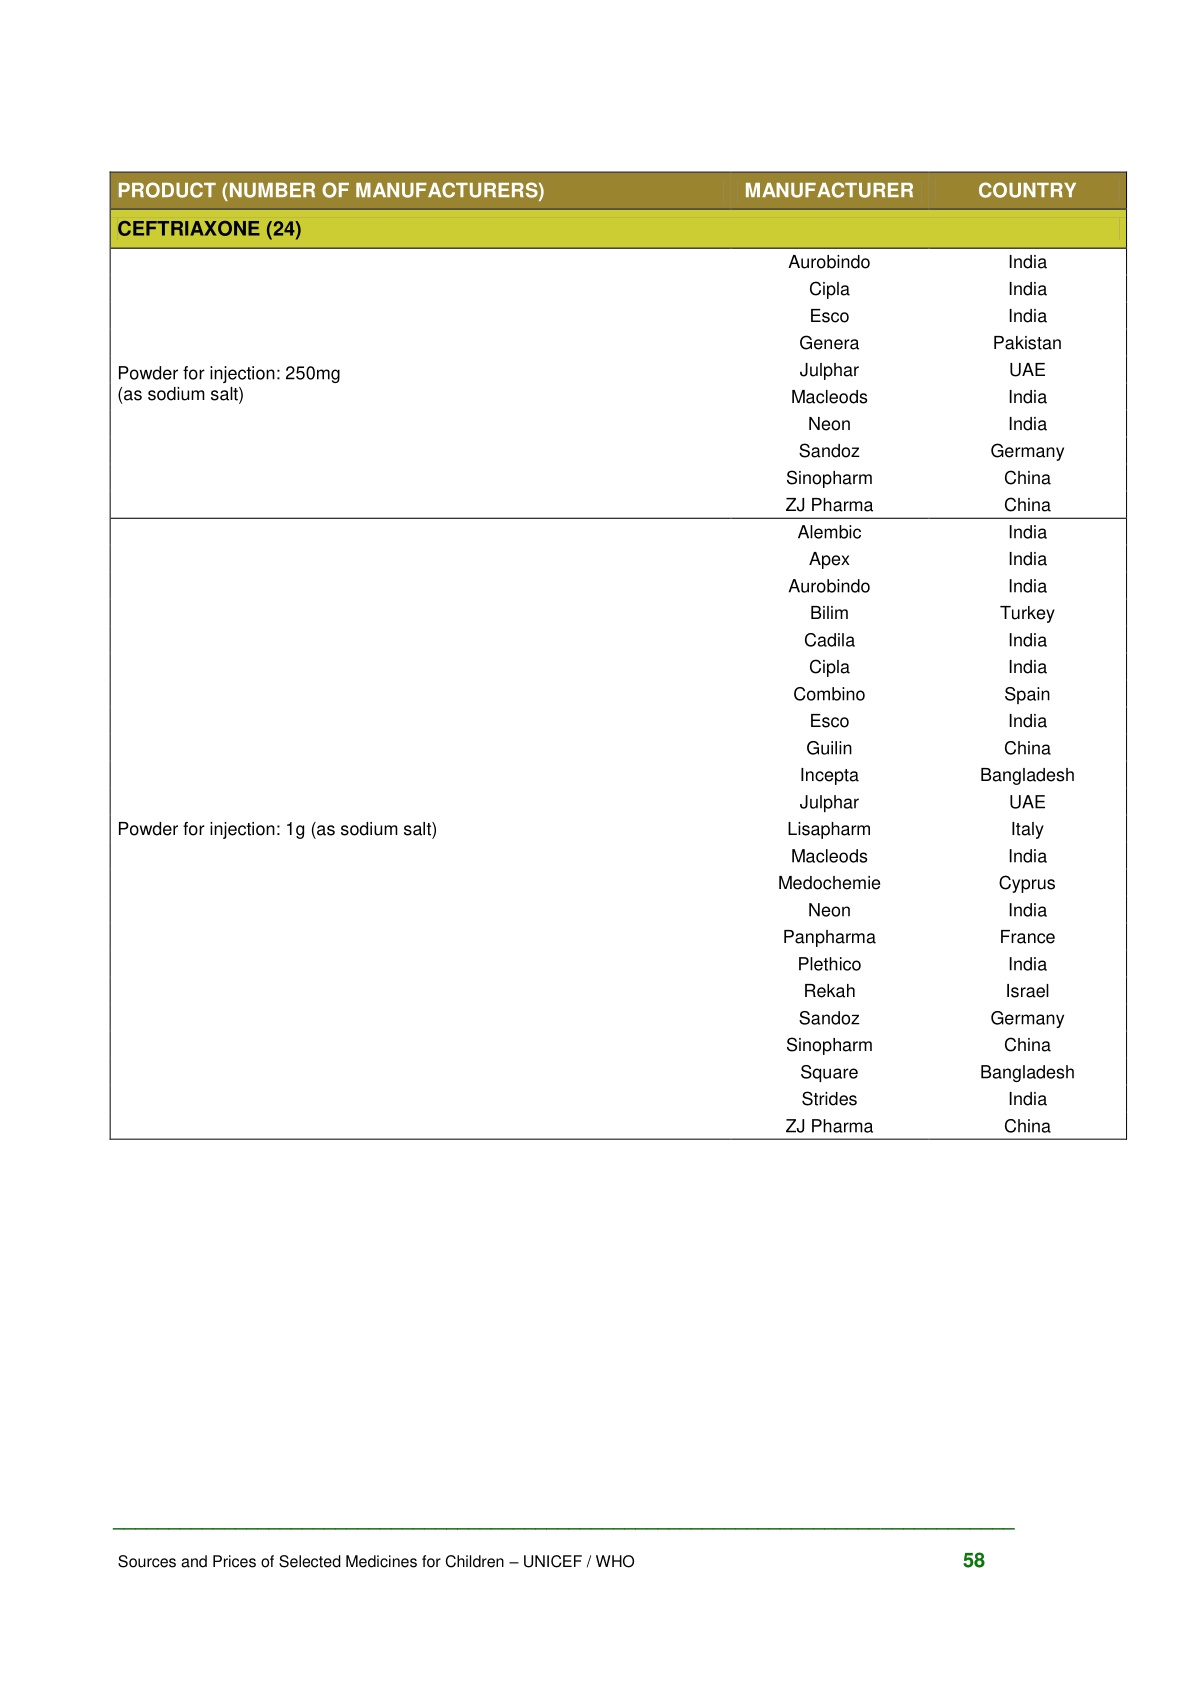partial_lined: (108, 171, 1128, 1142)
